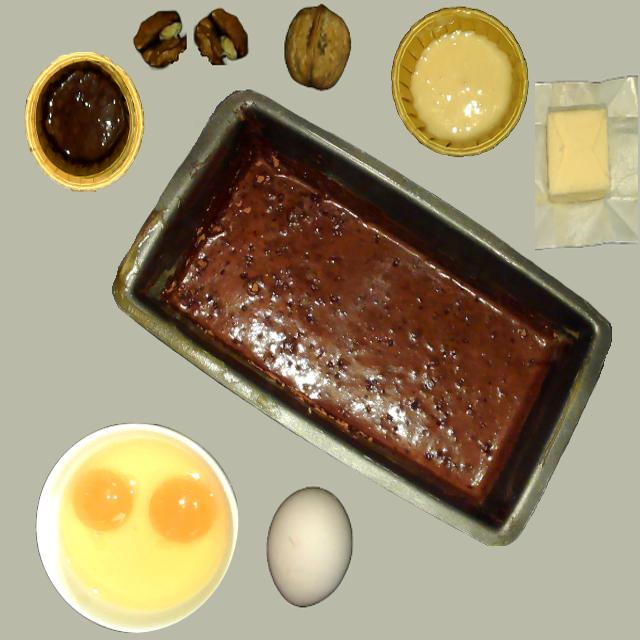Egg: (148, 476, 214, 543), (72, 470, 136, 532)
Walnut: (284, 5, 351, 90)
